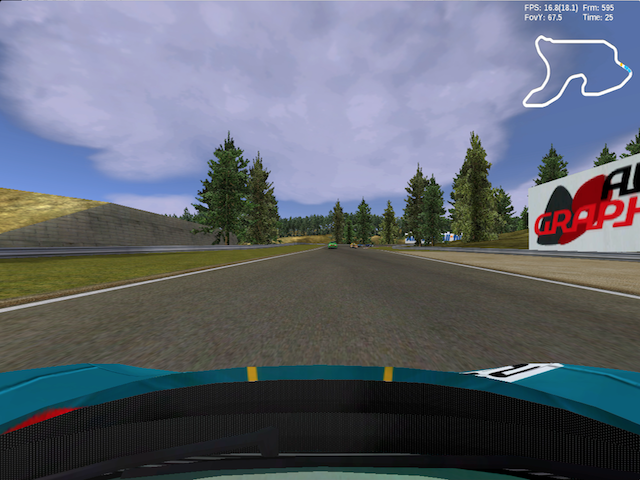Boxer96: (327, 243, 338, 249)
Cavallo360: (349, 243, 359, 249)
